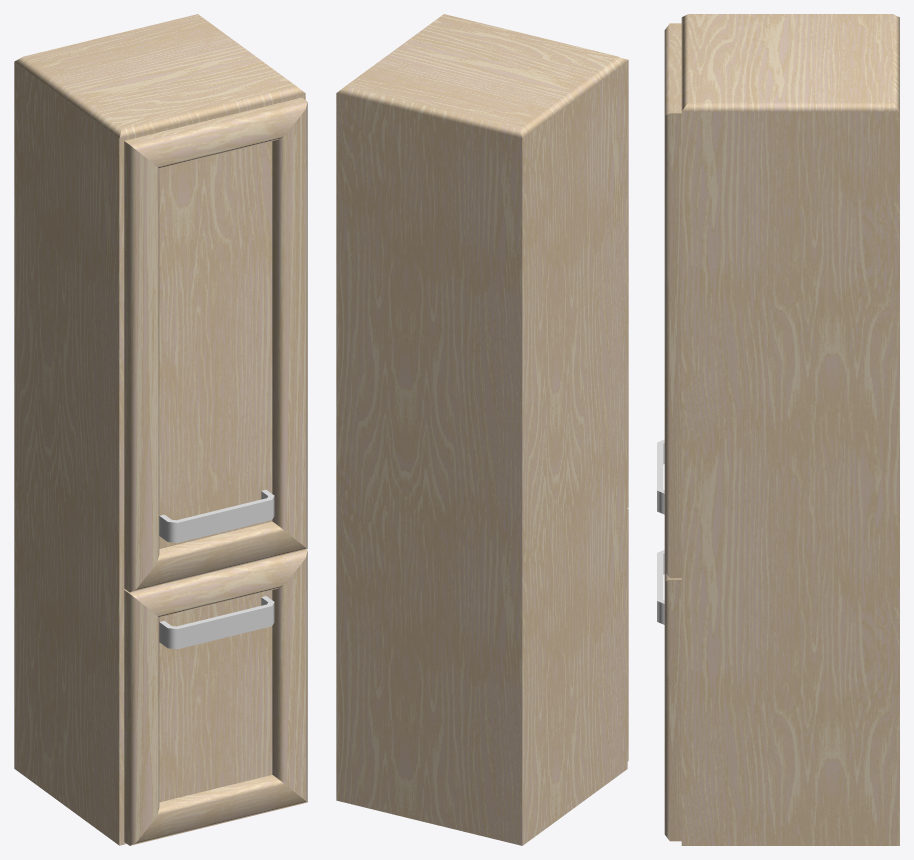
The model's file is bathroom_014.fbx.
The picture shows the model from 3 angles, left to right: view 1: azimuth 30°, elevation 25°; view 2: azimuth 150°, elevation 25°; view 3: azimuth 270°, elevation 25°; orthographic projection. The views are drawn at different scales.
Visible parts, largest first — view 1: bathroom_014; view 2: bathroom_014; view 3: bathroom_014.
Boxes of the visible parts, x1=… form: bathroom_014: x1=14, y1=14, x2=307, y2=845; bathroom_014: x1=336, y1=14, x2=628, y2=845; bathroom_014: x1=657, y1=14, x2=899, y2=845.
Bounding box in the file's own units: 50.5 × 54.98 × 185.
